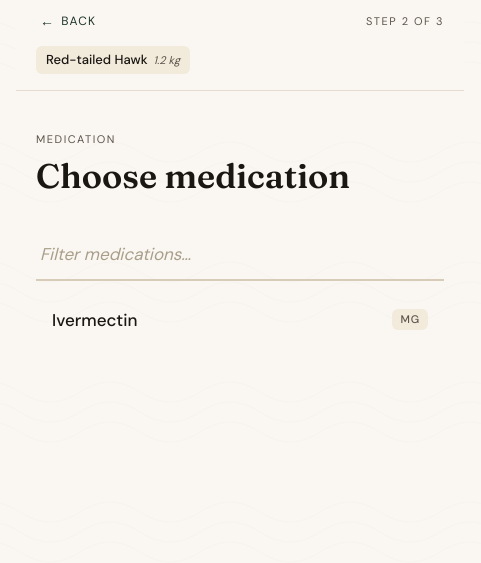
it: MedList › says so when no bottle can be used for the routes in effect
Click the button "Ivermectin mg" at (95, 320), box top-left (36, 293), bottom-right (444, 349)
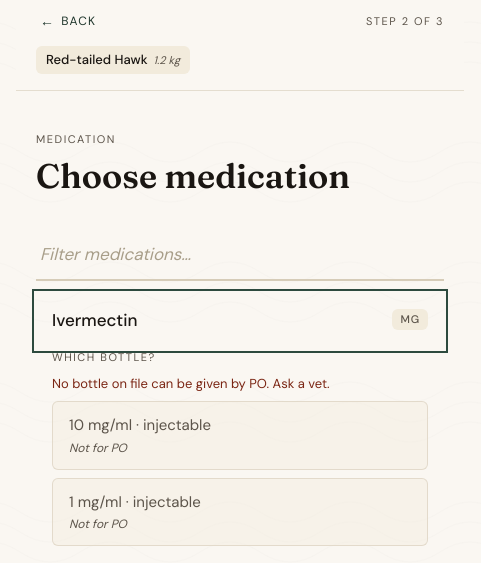
expect the text "No bottle on file can be given by PO. Ask a vet." is shown: met, box top-left (52, 374), bottom-right (330, 392)
